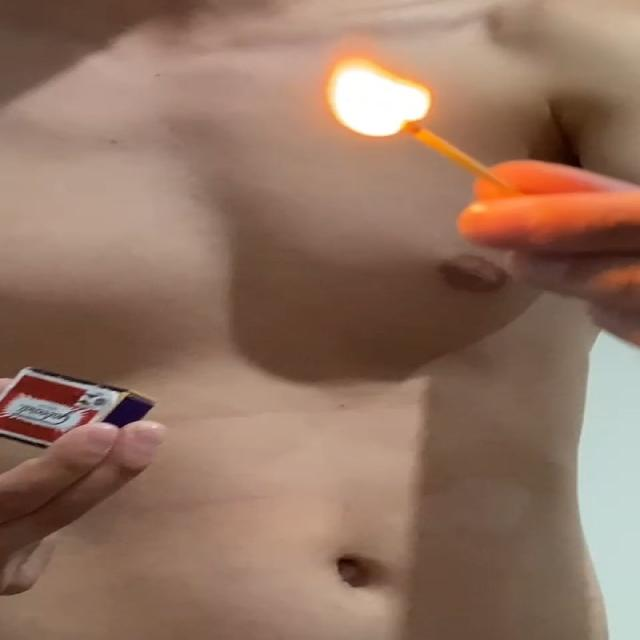fogo-ypXI: (327, 52, 434, 140)
